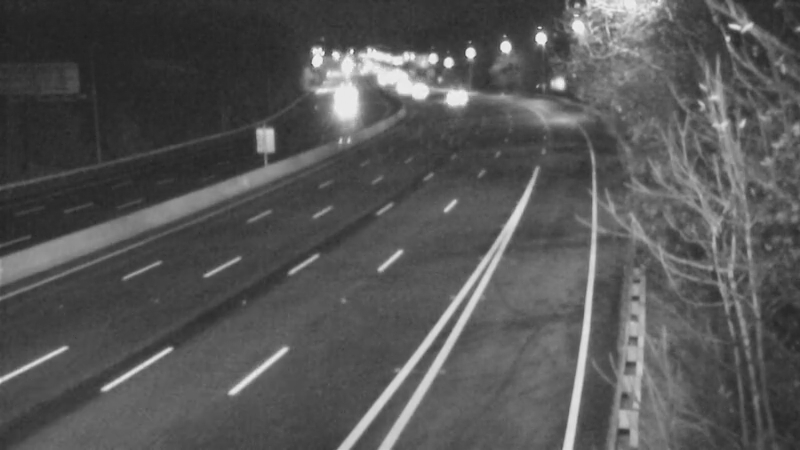vehicle: (378, 59, 428, 109), (387, 65, 437, 115), (430, 78, 480, 128), (317, 74, 367, 124)
